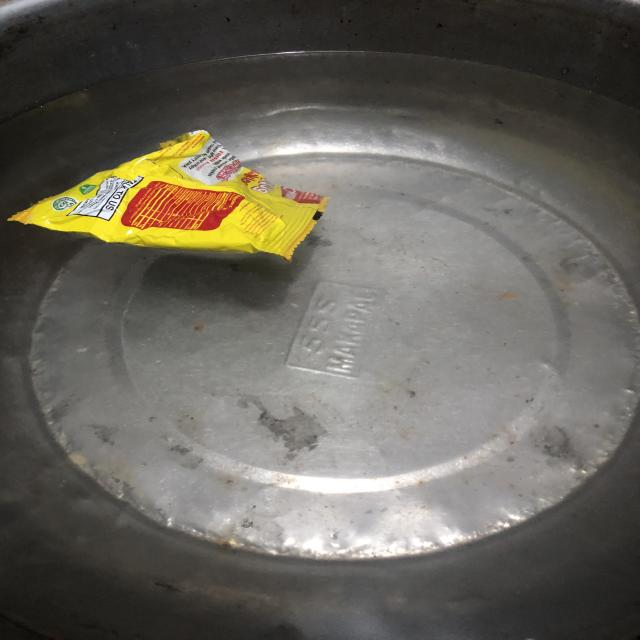Plastic Wrapper: (0, 109, 360, 278)
